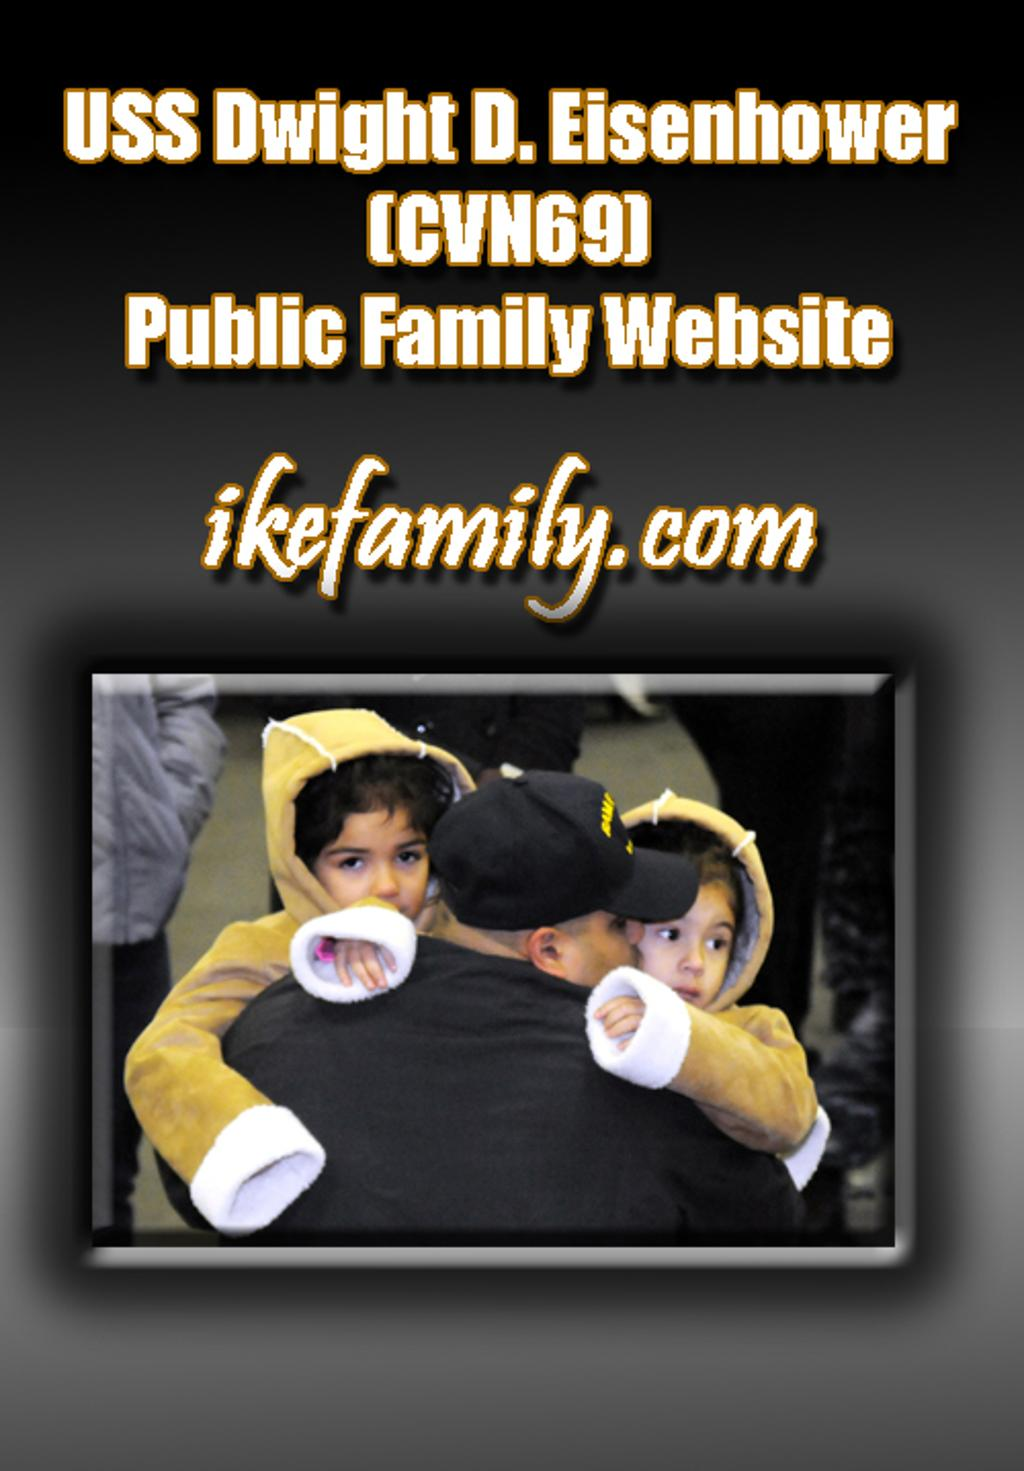face: (617, 858, 737, 1013), (316, 800, 431, 932), (562, 843, 642, 1004)
